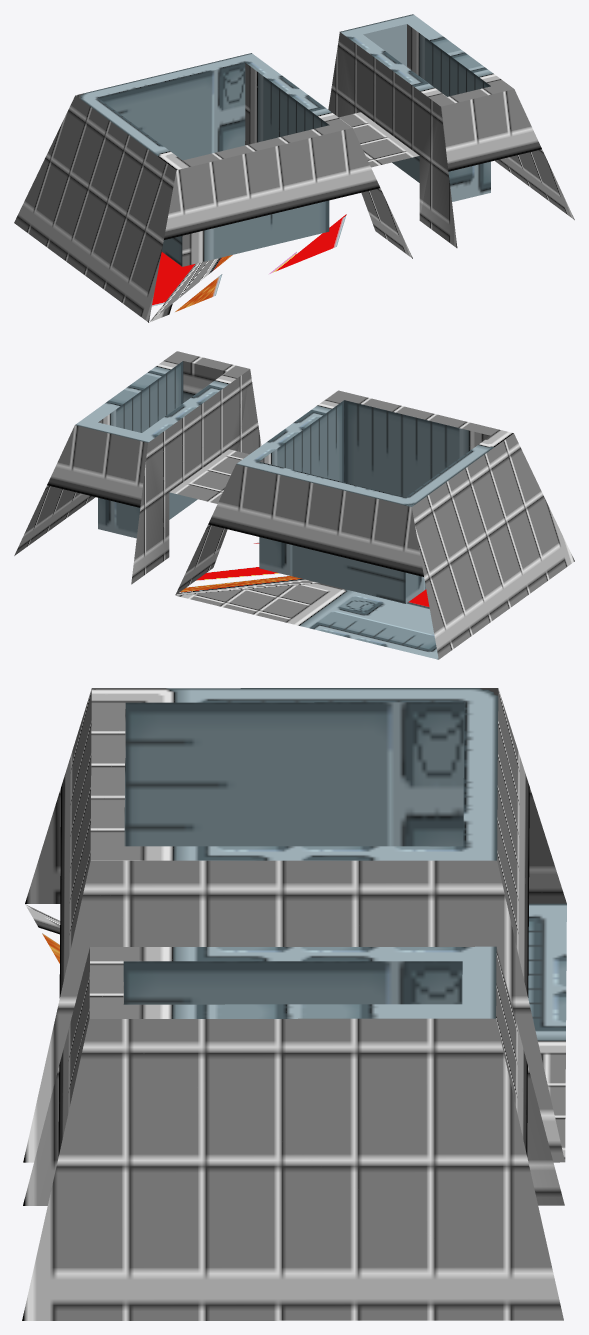
File: purifier.obj
3 views of the same model, one above another, from view 1: azimuth 30°, elevation 25°; view 2: azimuth 150°, elevation 25°; view 3: azimuth 270°, elevation 25° (orthographic). The views are drawn at different scales.
Parts seen in each view (by area): view 1: Purifier; view 2: Purifier; view 3: Purifier.
Boxes of the visible parts, left/top/right/bottom form: Purifier: left=14, top=14, right=574, bottom=322; Purifier: left=14, top=351, right=574, bottom=659; Purifier: left=22, top=688, right=566, bottom=1320.
Size of the model in its own units: 1.82 by 0.5323 by 1.01.
